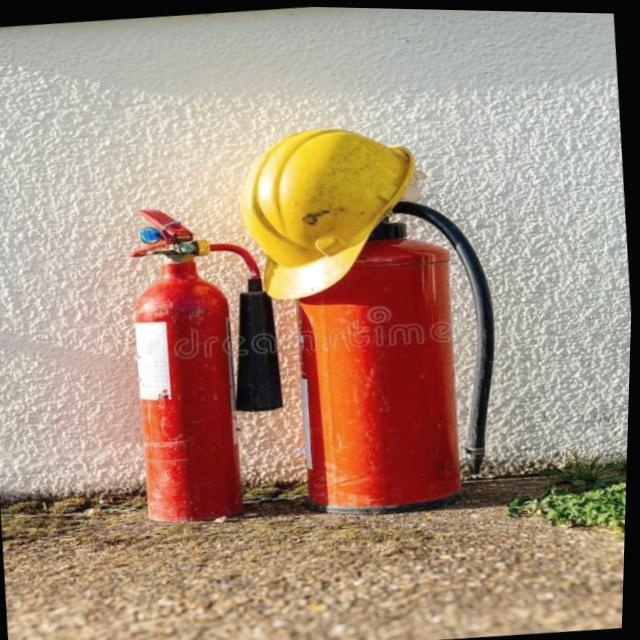FireExtinguisher: (260, 158, 530, 527), (102, 193, 309, 535)
